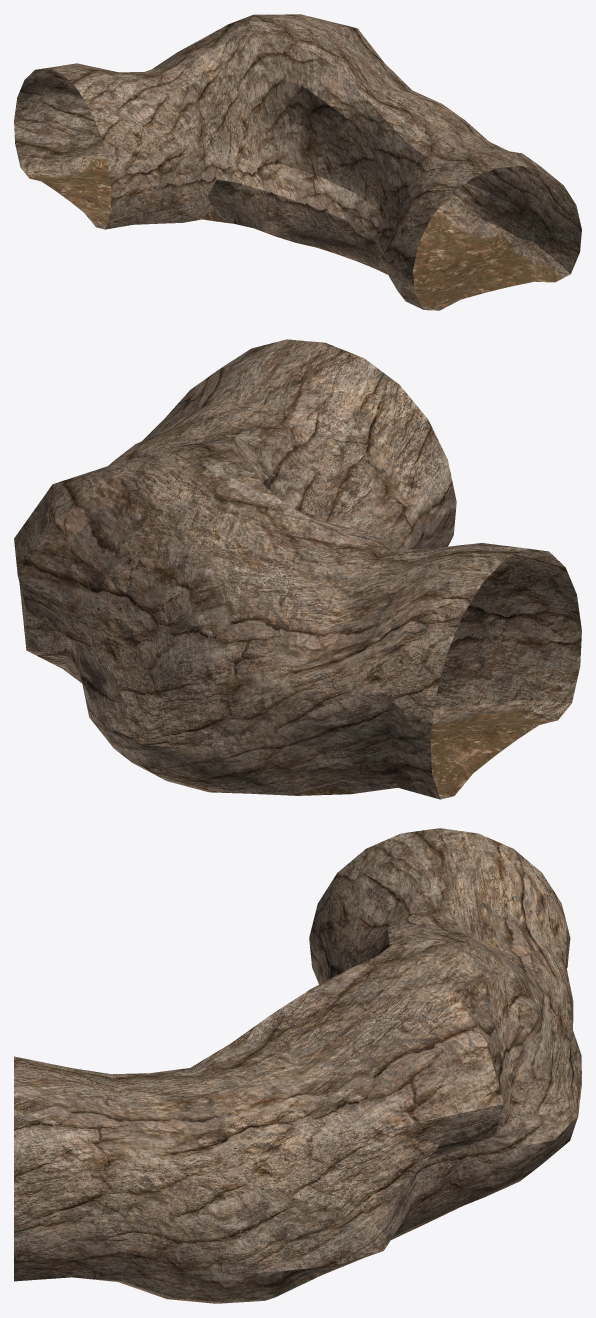
The model's file is CaveCorridorTurnLeftUp.obj.
The picture shows the model from 3 angles, top to bottom: view 1: azimuth 30°, elevation 25°; view 2: azimuth 150°, elevation 25°; view 3: azimuth 270°, elevation 25°; orthographic projection. The views are drawn at different scales.
Parts seen in each view (by area): view 1: CaveCorridorTurnLeftUp; view 2: CaveCorridorTurnLeftUp; view 3: CaveCorridorTurnLeftUp.
Part boxes in pixels (x1,y1,x2,y2): CaveCorridorTurnLeftUp: (14,14,581,310); CaveCorridorTurnLeftUp: (14,339,581,799); CaveCorridorTurnLeftUp: (14,828,581,1303).
Size of the model in its own units: 6.84 by 3.65 by 6.94.
